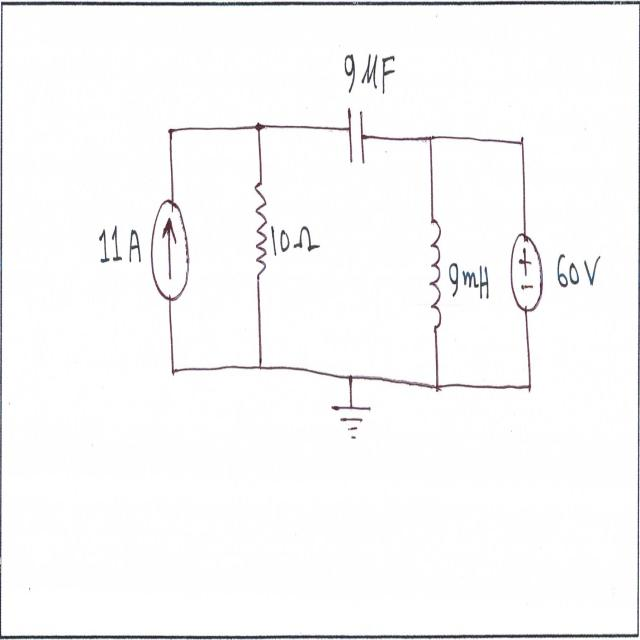capacitor: (347, 100, 368, 170)
current_source: (148, 190, 194, 304)
ground: (332, 402, 376, 446)
inductor: (426, 205, 446, 348)
resistor: (247, 180, 273, 289)
voltage_source: (508, 218, 548, 322)
